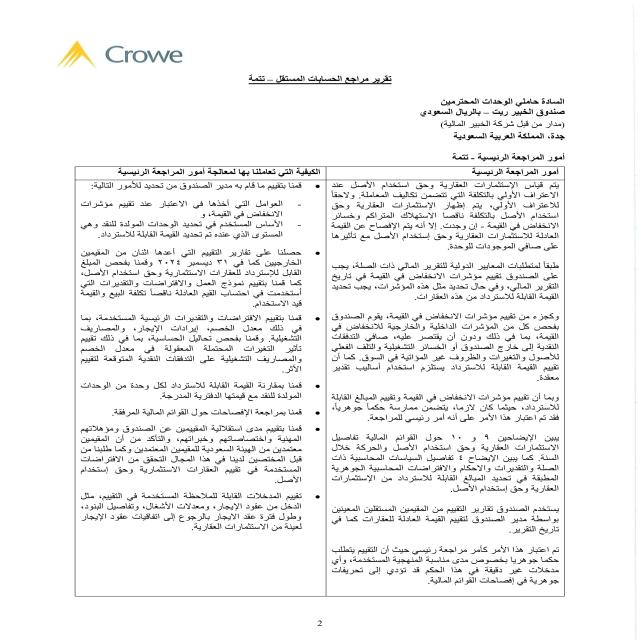auditor_report: (221, 73, 428, 90), (441, 148, 570, 160), (471, 166, 560, 178)
